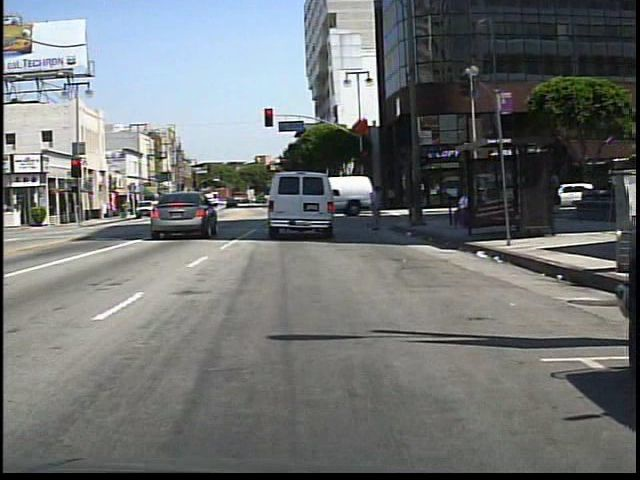person: (365, 182, 390, 235), (159, 192, 174, 218)
